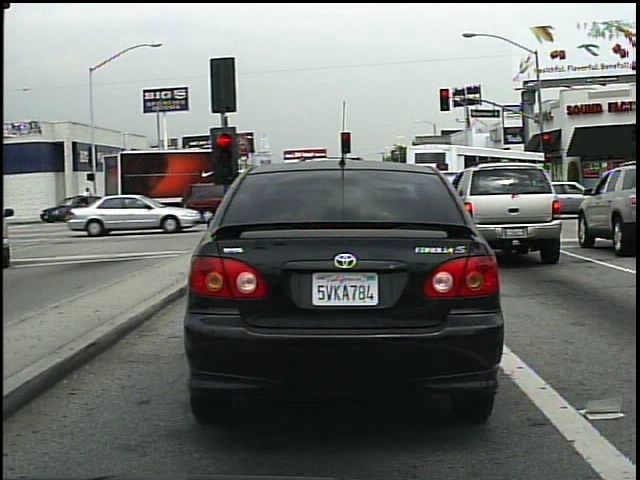person: (79, 184, 101, 218)
